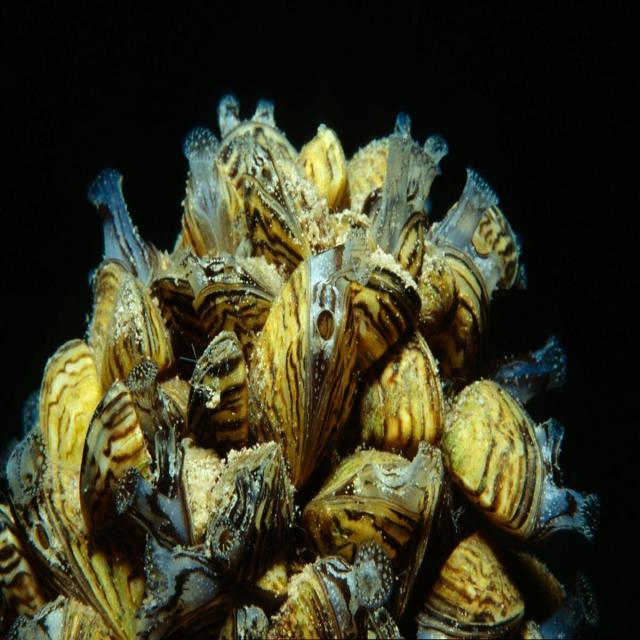Dreissena_polymorpha: (6, 338, 141, 640), (259, 266, 358, 475), (310, 445, 441, 592), (437, 375, 549, 534), (79, 377, 157, 562), (426, 527, 520, 638), (352, 347, 447, 445), (207, 446, 284, 566), (242, 155, 312, 275), (286, 551, 377, 640), (186, 331, 253, 451), (106, 278, 172, 399), (346, 256, 421, 361), (452, 186, 519, 302), (1, 492, 43, 629), (213, 597, 269, 640), (394, 215, 426, 274)
